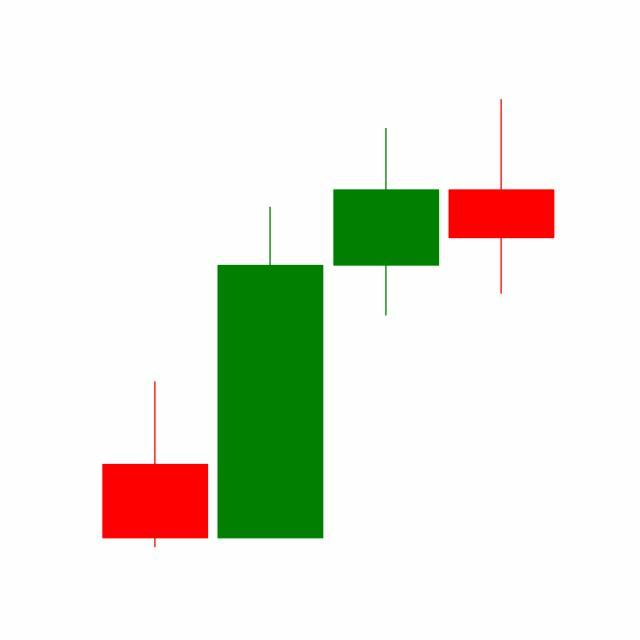Spinning Top: (444, 98, 560, 297)
